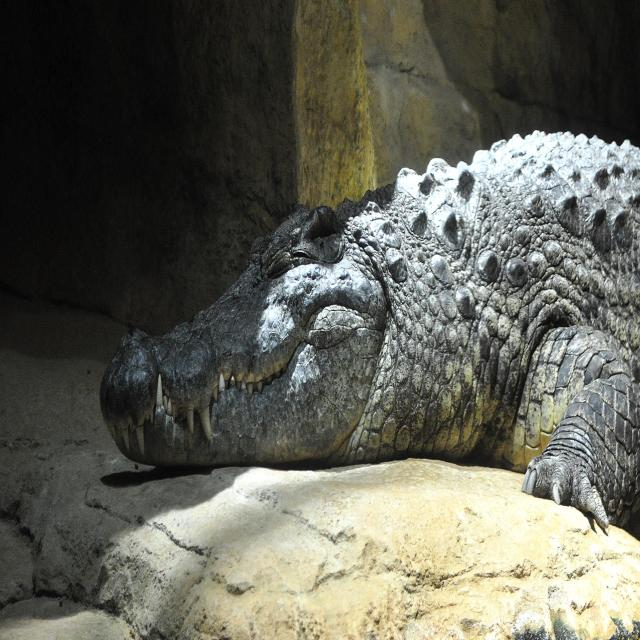crocodile: (94, 135, 639, 529)
